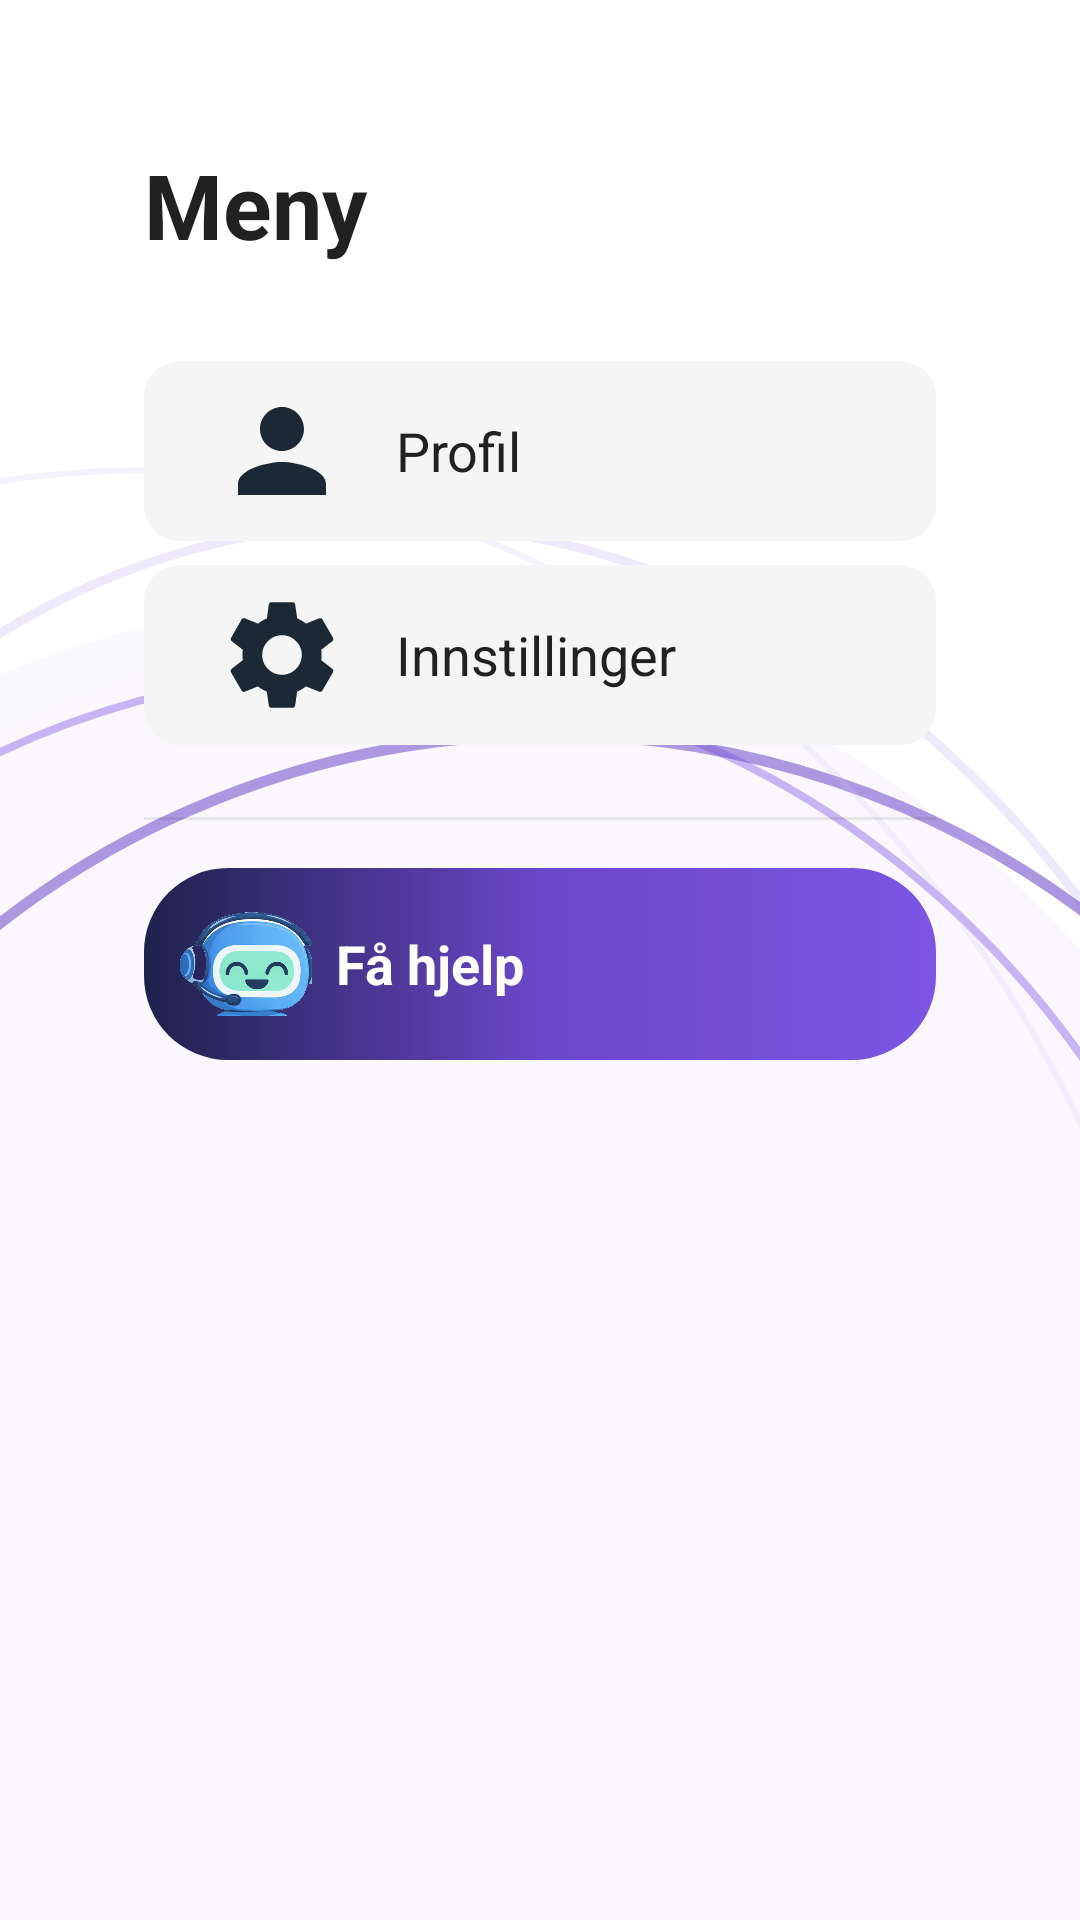

Named icons in this screenshot (1080 × 1920) and their centers, (x=x, y=y):
ai assistant: (x=246, y=964)
settings: (x=282, y=655)
